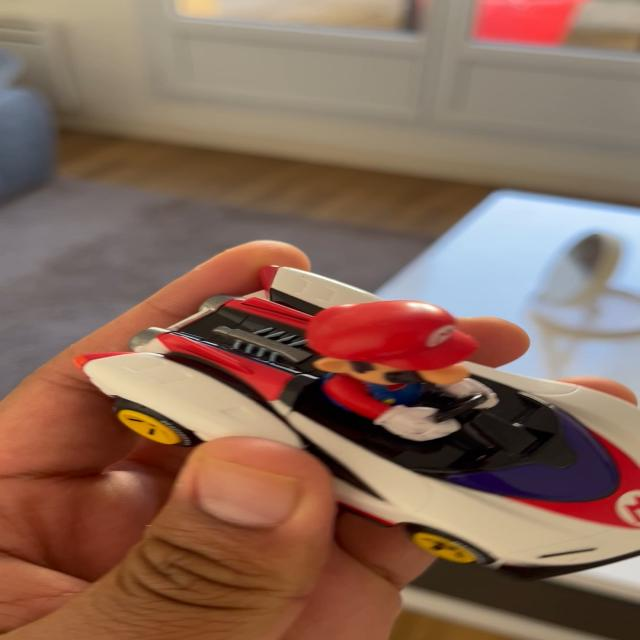mario: (79, 254, 640, 584)
